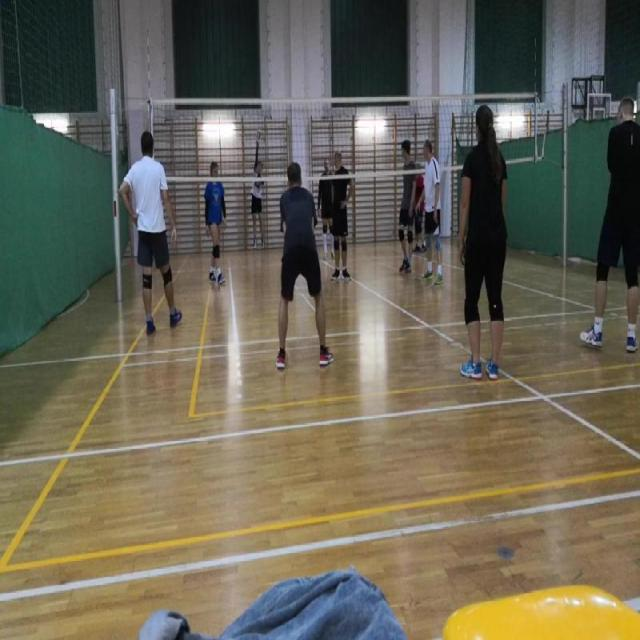volleyball: (257, 131, 261, 139)
